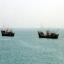fishing boat: (36, 20, 61, 41), (0, 20, 16, 38)
